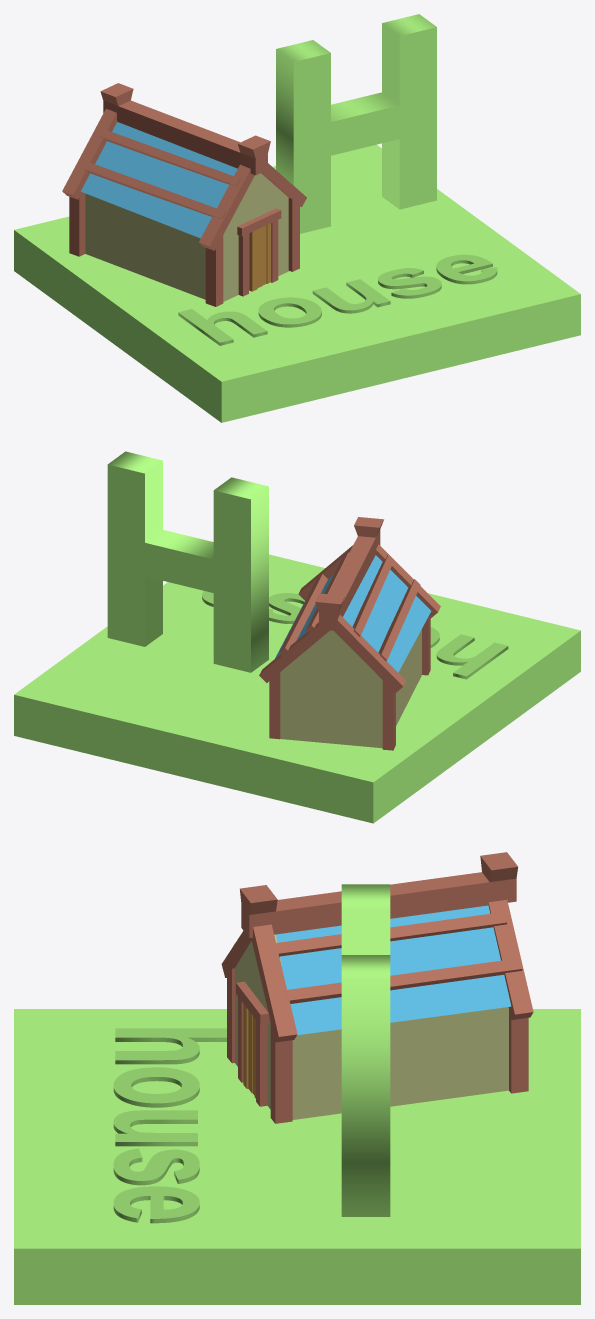
Rendered from hletter.glb.
3 views of the same model, one above another, from view 1: azimuth 30°, elevation 25°; view 2: azimuth 150°, elevation 25°; view 3: azimuth 270°, elevation 25° (orthographic). The views are drawn at different scales.
Parts seen in each view (by area): view 1: Cube.022, Text.003, Cube.008, Cube.006, Text.002, Cube.003, Cube.013, Cube.004, Cube.007, Cube.010, Cube.012, Cube.014; view 2: Cube.022, Text.003, Cube.006, Cube.008, Text.002, Cube.004, Cube.003, Cube.001, Cube.015, Cube.013; view 3: Cube.022, Cube.008, Text.003, Cube.006, Text.002, Cube.015, Cube.007, Cube.001, Cube.013, Cube.011, Cube.012.
Part boxes in pixels (left/top/right/bottom): Cube.022: left=14, top=144, right=580, bottom=422; Text.003: left=276, top=14, right=436, bottom=233; Cube.008: left=81, top=83, right=270, bottom=238; Cube.006: left=85, top=173, right=288, bottom=301; Text.002: left=178, top=254, right=497, bottom=345; Cube.003: left=84, top=128, right=240, bottom=219; Cube.013: left=199, top=164, right=254, bottom=306; Cube.004: left=62, top=109, right=117, bottom=256; Cube.007: left=261, top=163, right=306, bottom=271; Cube.010: left=238, top=233, right=248, bottom=296; Cube.012: left=237, top=208, right=281, bottom=236; Cube.014: left=249, top=229, right=257, bottom=291; Cube.022: left=14, top=554, right=580, bottom=823; Text.003: left=107, top=451, right=268, bottom=672; Cube.006: left=280, top=629, right=421, bottom=748; Cube.008: left=275, top=517, right=431, bottom=672; Text.002: left=202, top=591, right=508, bottom=679; Cube.004: left=334, top=615, right=405, bottom=750; Cube.003: left=352, top=554, right=420, bottom=660; Cube.001: left=259, top=622, right=329, bottom=739; Cube.015: left=279, top=552, right=348, bottom=655; Cube.013: left=375, top=544, right=440, bottom=675; Cube.022: left=14, top=1009, right=580, bottom=1304; Cube.008: left=240, top=852, right=517, bottom=1035; Text.003: left=341, top=884, right=390, bottom=1216; Cube.006: left=235, top=934, right=508, bottom=1119; Text.002: left=113, top=1028, right=226, bottom=1223; Cube.015: left=276, top=912, right=522, bottom=1003; Cube.007: left=251, top=924, right=297, bottom=1123; Cube.001: left=488, top=899, right=533, bottom=1093; Cube.013: left=221, top=931, right=251, bottom=1063; Cube.011: left=256, top=1020, right=267, bottom=1106; Cube.012: left=236, top=981, right=268, bottom=1025.
Size of the model in its own units: 0.3237 by 0.1946 by 0.3237.
